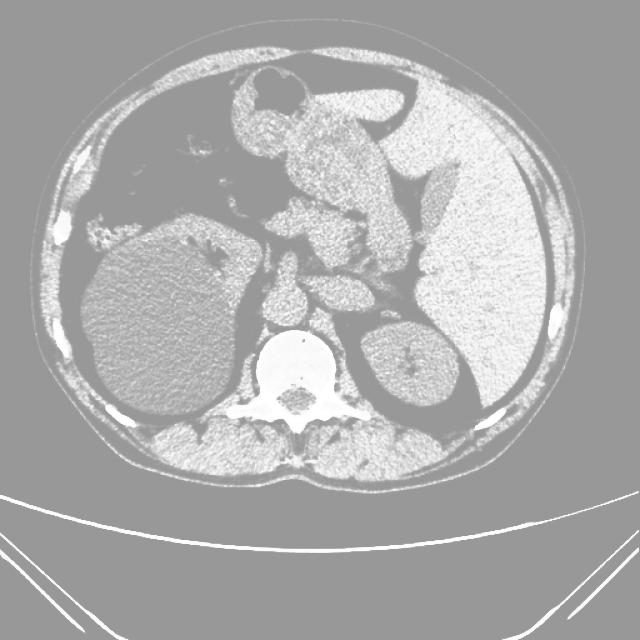cysts: (35, 37, 583, 493)
